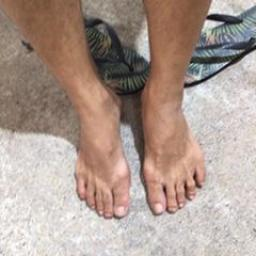Dorsal View -Both Feet-: (44, 63, 213, 230)
